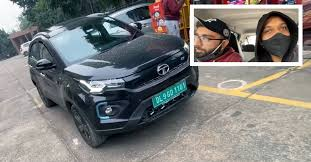Tata Nexon: (25, 11, 202, 148)
